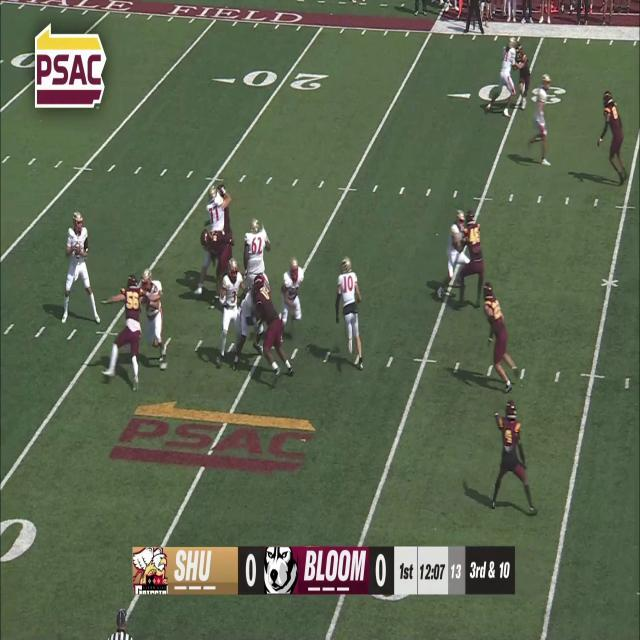football: (74, 242, 81, 258)
